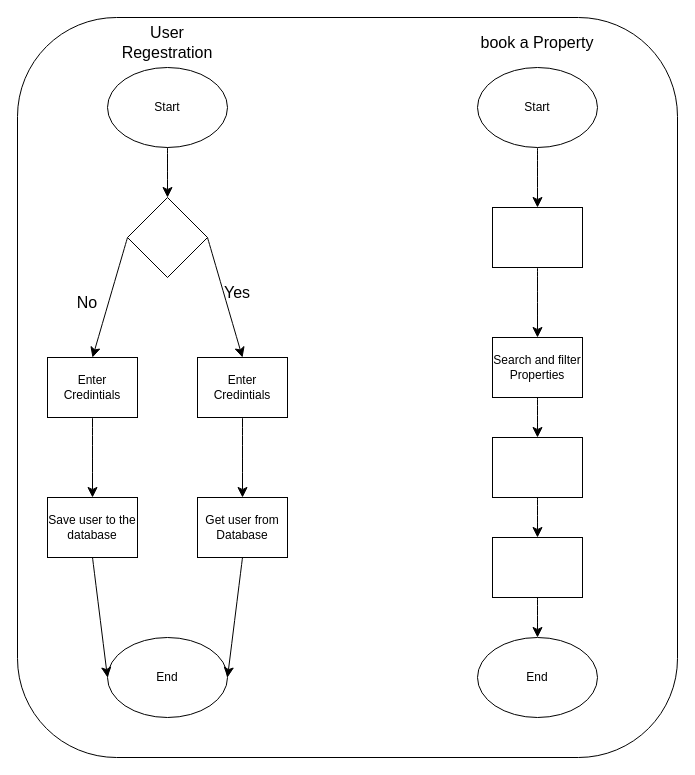
The diagram is 695 pixels wide and 775 high, and some of its shapes have lost their labels. The shapes that lost their labels are listed below. From the top down, each one's box as (x1, y1, x2, y2) in pixels, then its label:
(126, 196, 208, 278): if user have account
(492, 206, 582, 268): Login
(492, 436, 582, 498): Choose Property
(492, 536, 582, 598): Pay for the Host
